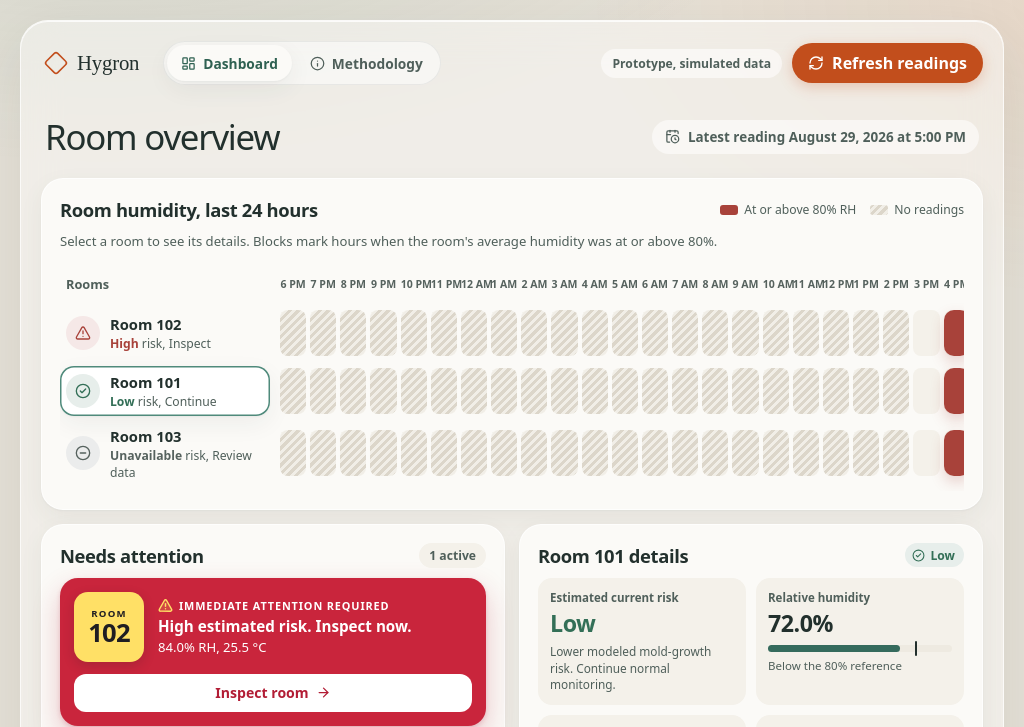
Test case: top navigation › switches pages and marks the current page
Click the button "Methodology": (366, 63) [296,45,437,81]
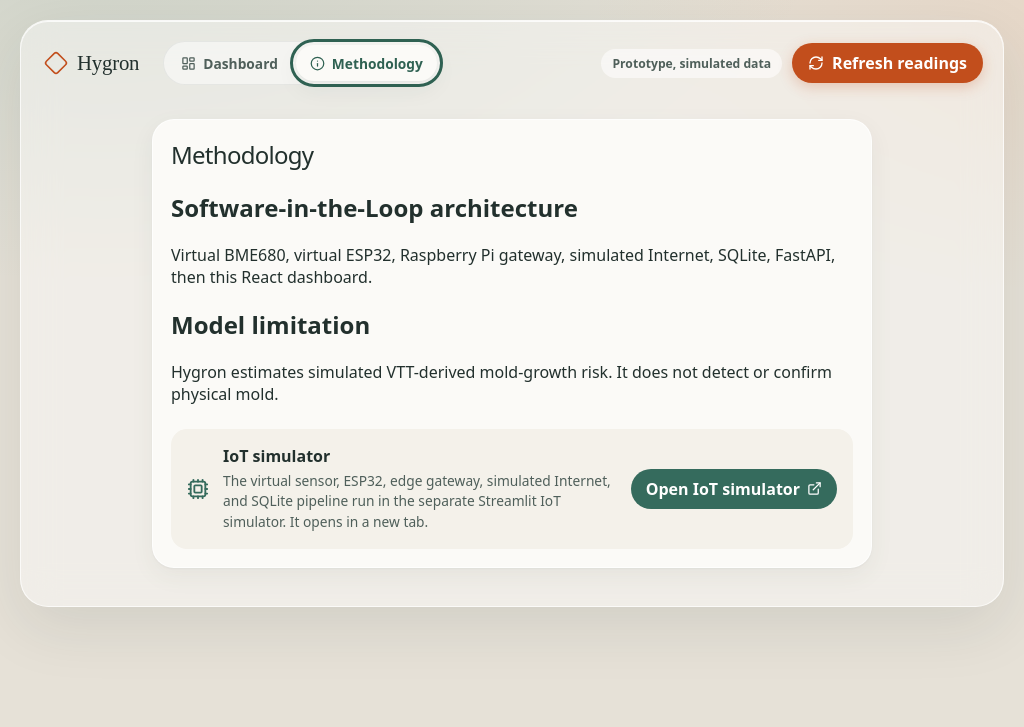
Result: the heading "Methodology" is shown at [171,138,313,171]
Click the button "Dashboard": (230, 63) [167,45,292,81]
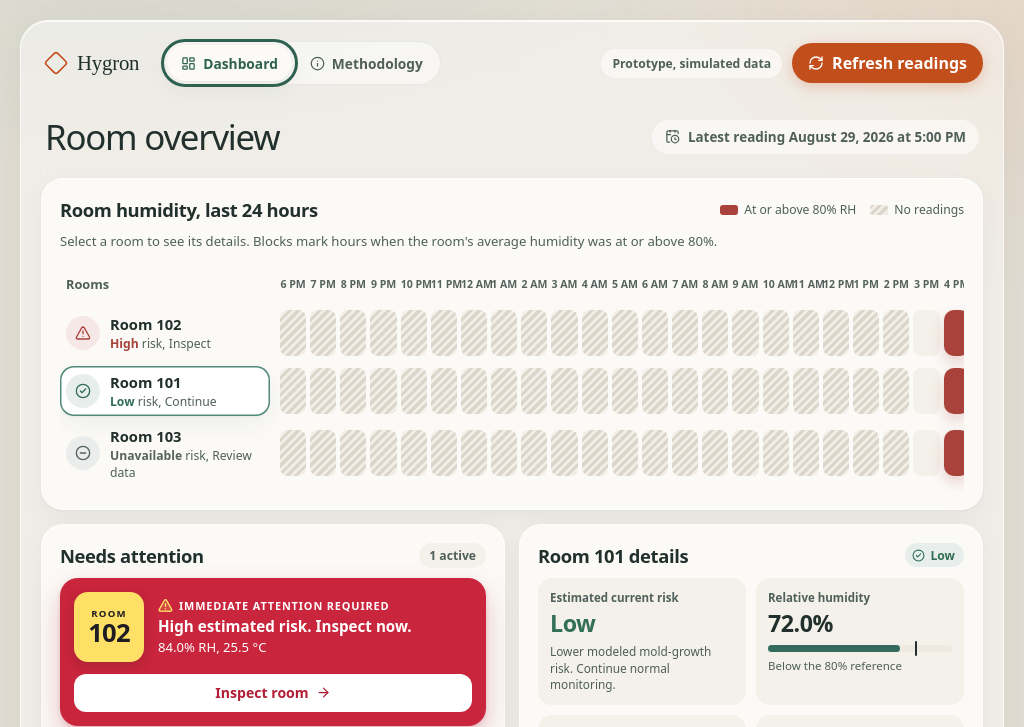
Result: the heading "Room overview" is shown at [45,113,280,160]
